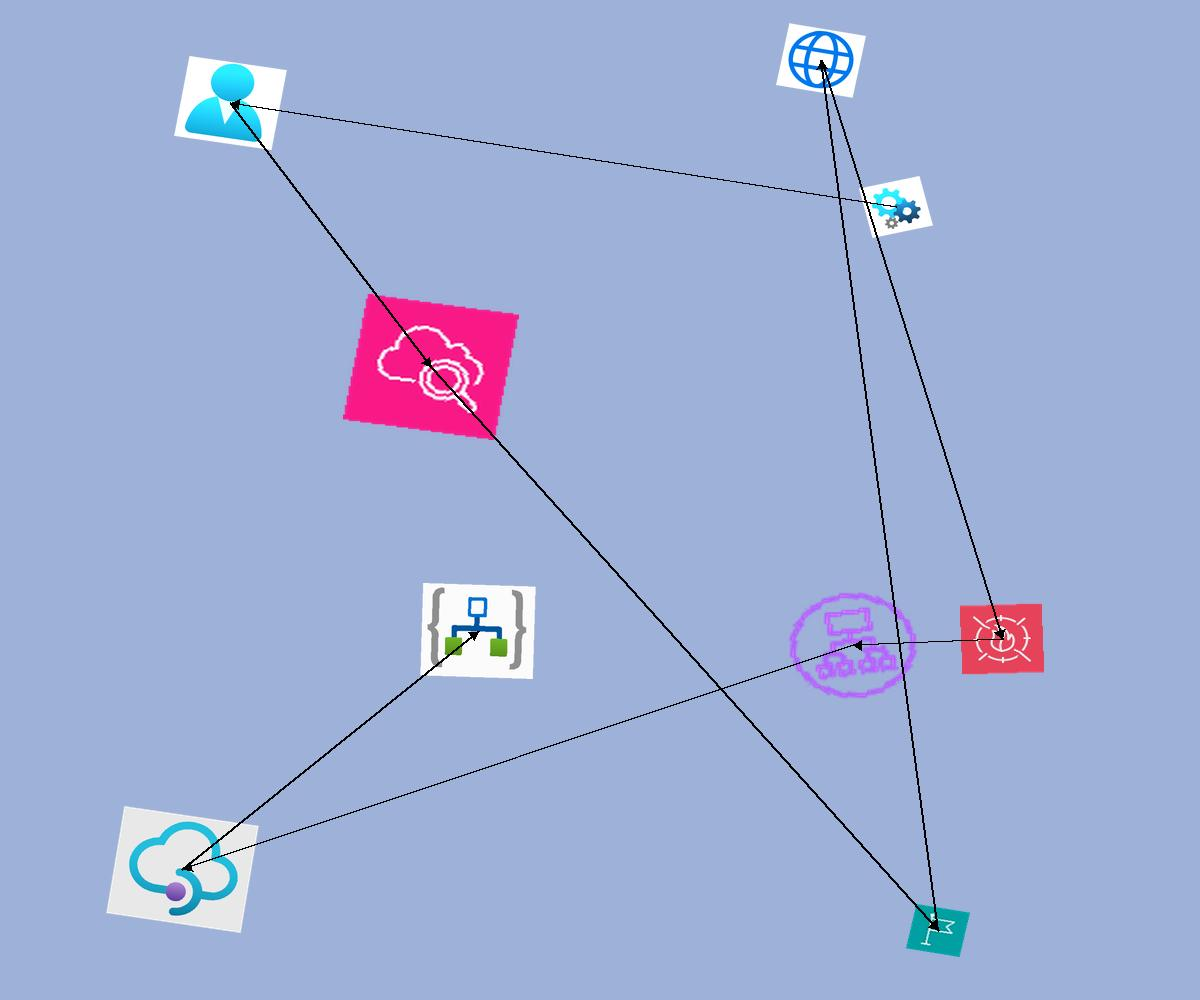AWS-CloudWatch: (343, 294, 519, 440)
AWS-Region: (906, 904, 970, 957)
AWS-Res_Elastic-Load-Balancing_Application-Load-Balancer: (773, 579, 933, 712)
AWS-WAF: (959, 603, 1045, 675)
Azure_api: (859, 176, 933, 238)
Azure_api_gateway: (106, 806, 259, 933)
Azure_http: (776, 23, 866, 98)
Azure_integration-204-Logic-Apps: (420, 583, 536, 679)
Azure_users: (174, 56, 287, 150)
